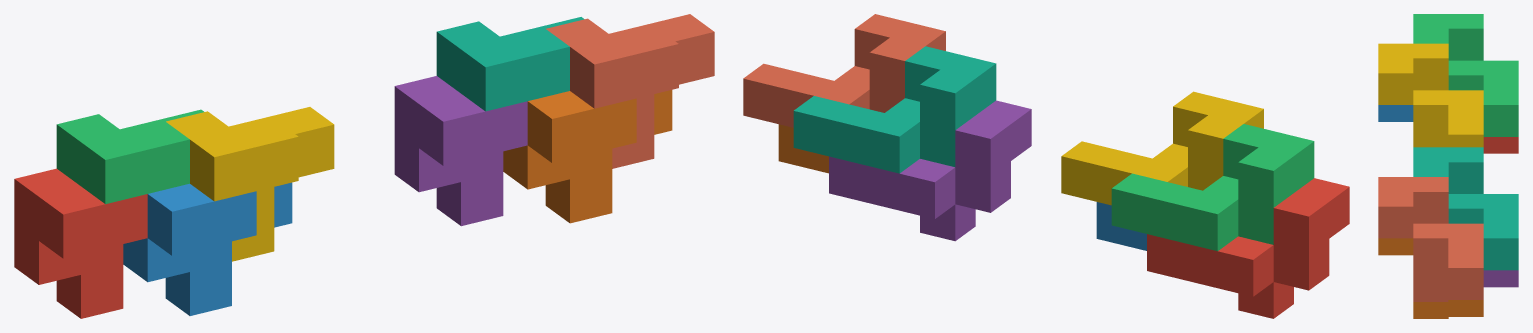
Rendered from tiling.obj.
3 renders of one model, left to right at view 1: azimuth 30°, elevation 25°; view 2: azimuth 150°, elevation 25°; view 3: azimuth 270°, elevation 25°, orthographic. The views are drawn at different scales.
Parts seen in each view (by area): view 1: copy_1_domain_1, copy_1_domain_5, copy_1_domain_8, copy_1_domain_4, copy_1_domain_6, copy_1_domain_2, copy_1_domain_3, copy_1_domain_7; view 2: copy_1_domain_3, copy_1_domain_7, copy_1_domain_1, copy_1_domain_5, copy_1_domain_4, copy_1_domain_8, copy_1_domain_2, copy_1_domain_6; view 3: copy_1_domain_8, copy_1_domain_4, copy_1_domain_7, copy_1_domain_3, copy_1_domain_6, copy_1_domain_5, copy_1_domain_1, copy_1_domain_2.
Boxes of the visible parts, x1,y1,x2,y2 form: copy_1_domain_1: (14, 168, 147, 318); copy_1_domain_5: (394, 76, 527, 226); copy_1_domain_8: (546, 14, 714, 168); copy_1_domain_4: (166, 107, 334, 261); copy_1_domain_6: (503, 90, 672, 223); copy_1_domain_2: (123, 182, 292, 315); copy_1_domain_3: (56, 109, 203, 204); copy_1_domain_7: (436, 17, 584, 111); copy_1_domain_3: (1111, 124, 1314, 251); copy_1_domain_7: (793, 46, 996, 173); copy_1_domain_1: (1147, 178, 1349, 318); copy_1_domain_5: (829, 100, 1031, 241); copy_1_domain_4: (1061, 91, 1263, 205); copy_1_domain_8: (743, 14, 945, 127); copy_1_domain_2: (1096, 202, 1146, 250); copy_1_domain_6: (778, 124, 828, 173); copy_1_domain_8: (1378, 177, 1483, 301); copy_1_domain_4: (1378, 43, 1483, 147); copy_1_domain_7: (1413, 147, 1518, 270); copy_1_domain_3: (1413, 14, 1518, 136); copy_1_domain_6: (1378, 238, 1483, 318); copy_1_domain_5: (1483, 270, 1518, 287); copy_1_domain_1: (1483, 137, 1518, 153); copy_1_domain_2: (1378, 105, 1413, 121).
Size of the model in its own units: 16 by 4 by 4.
